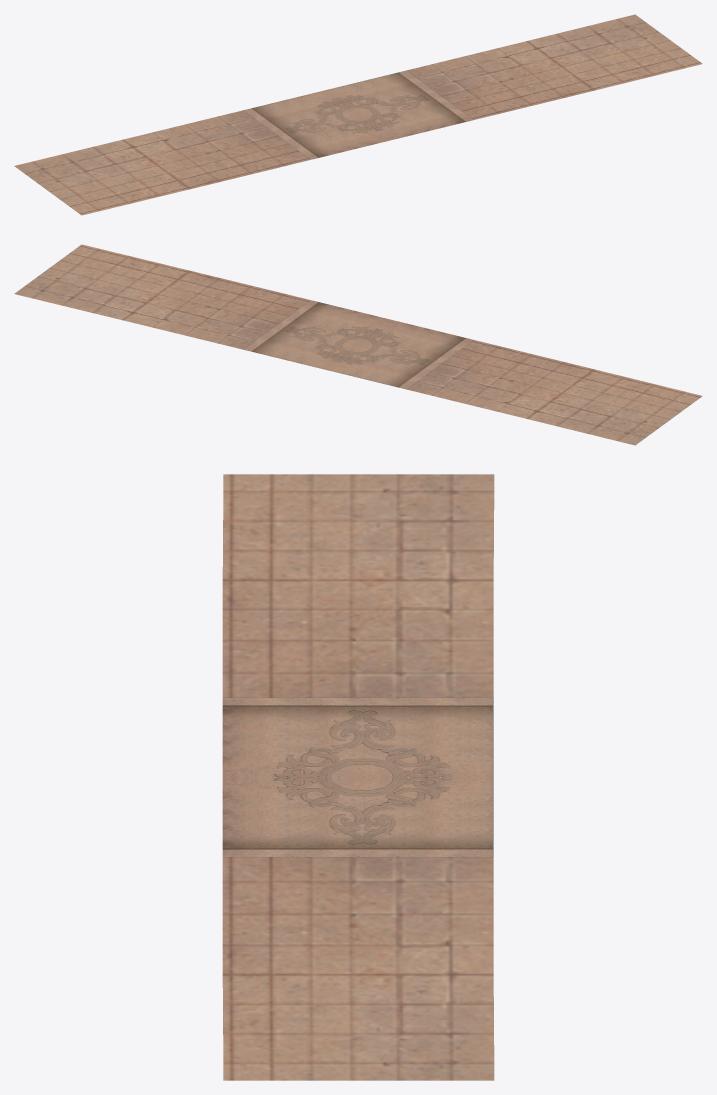
File: yangchunbaixue_dibiao.FBX
3 renders of one model, top to bottom at view 1: azimuth 30°, elevation 25°; view 2: azimuth 150°, elevation 25°; view 3: azimuth 270°, elevation 25°, orthographic. The views are drawn at different scales.
Visible parts, largest first — view 1: Plane29; view 2: Plane29; view 3: Plane29.
Part boxes in pixels (x1,y1,x2,y2): Plane29: (14,14,702,215); Plane29: (14,244,702,445); Plane29: (222,474,494,1080).
Size of the model in its own units: 52.96 by 8.64e-07 by 10.03.
